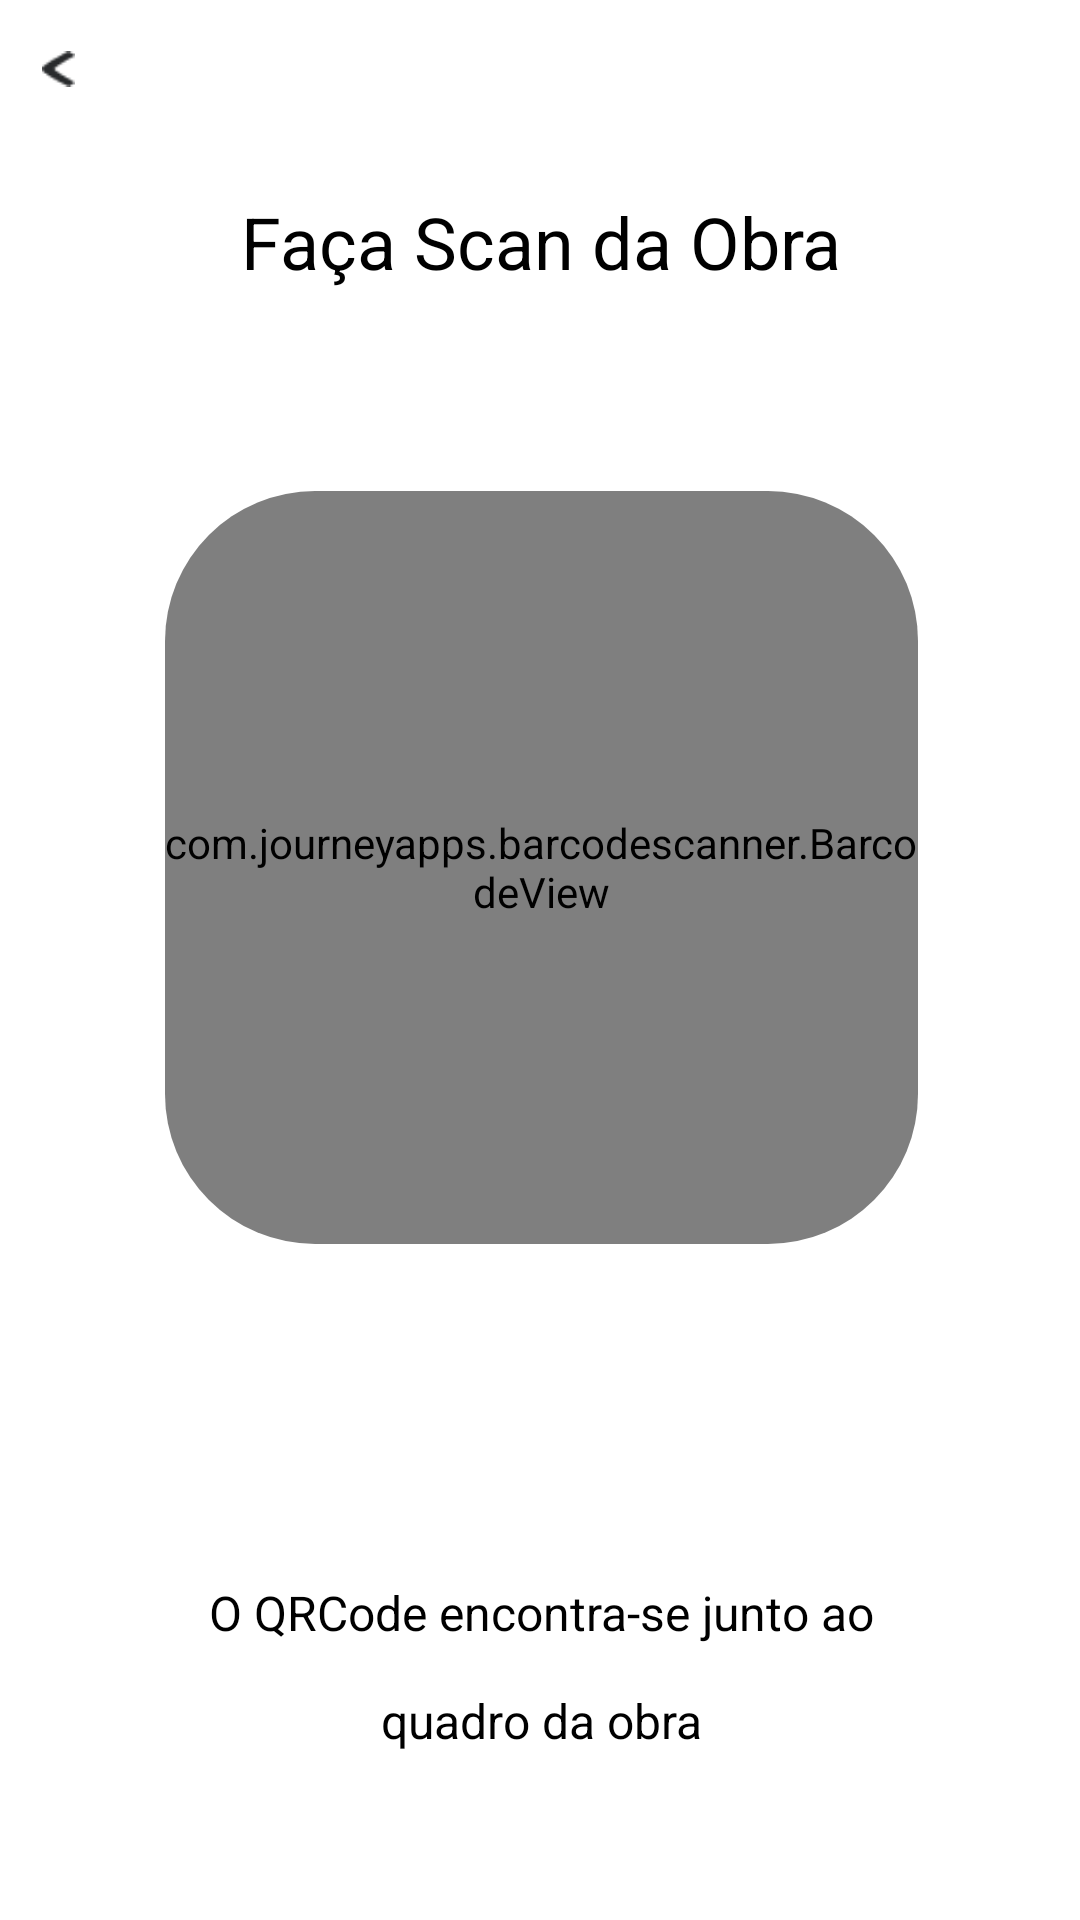

Icon click points for this 1080px x 1920px phone screenshot, format (x,y):
seta back: (58,69)
